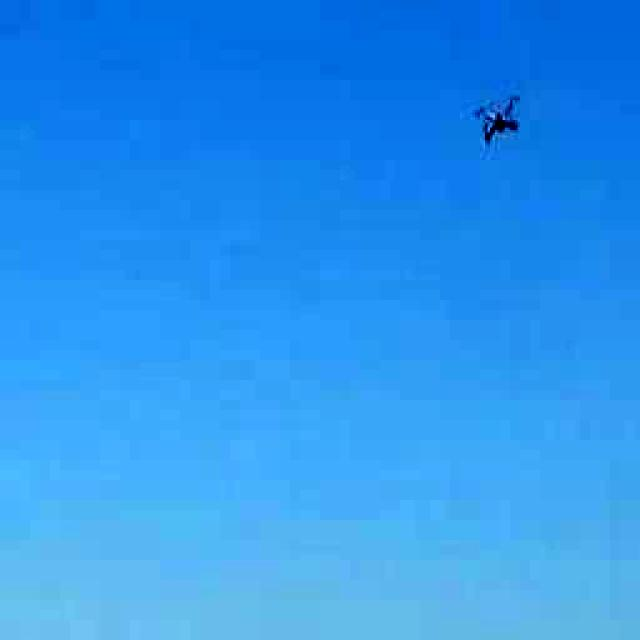bird: (440, 69, 552, 159)
